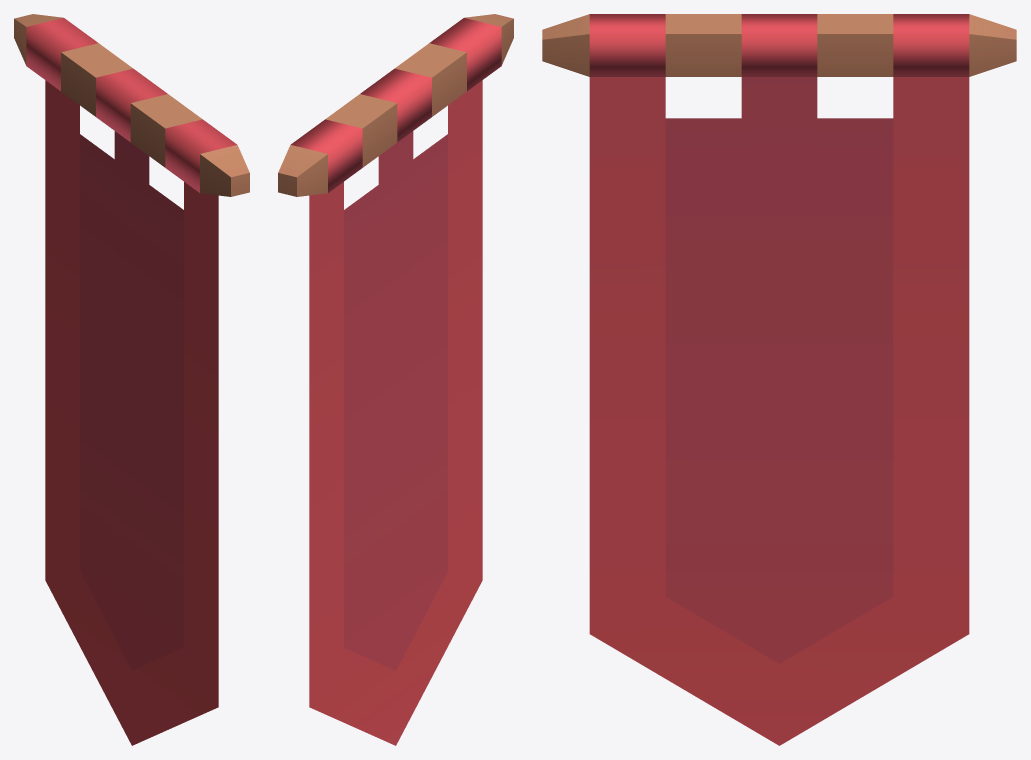
File: ot-banner-red.glb
The picture shows the model from 3 angles, left to right: view 1: azimuth 30°, elevation 25°; view 2: azimuth 150°, elevation 25°; view 3: azimuth 270°, elevation 25°; orthographic projection. The views are drawn at different scales.
Visible parts, largest first — view 1: banner-red; view 2: banner-red; view 3: banner-red.
Boxes of the visible parts, x1=… form: banner-red: x1=14, y1=14, x2=249, y2=745; banner-red: x1=278, y1=14, x2=513, y2=745; banner-red: x1=542, y1=14, x2=1016, y2=745.
Bounding box in the file's own units: 0.05 × 0.8394 × 0.5.
Materials: 1 (1 with a texture image).
